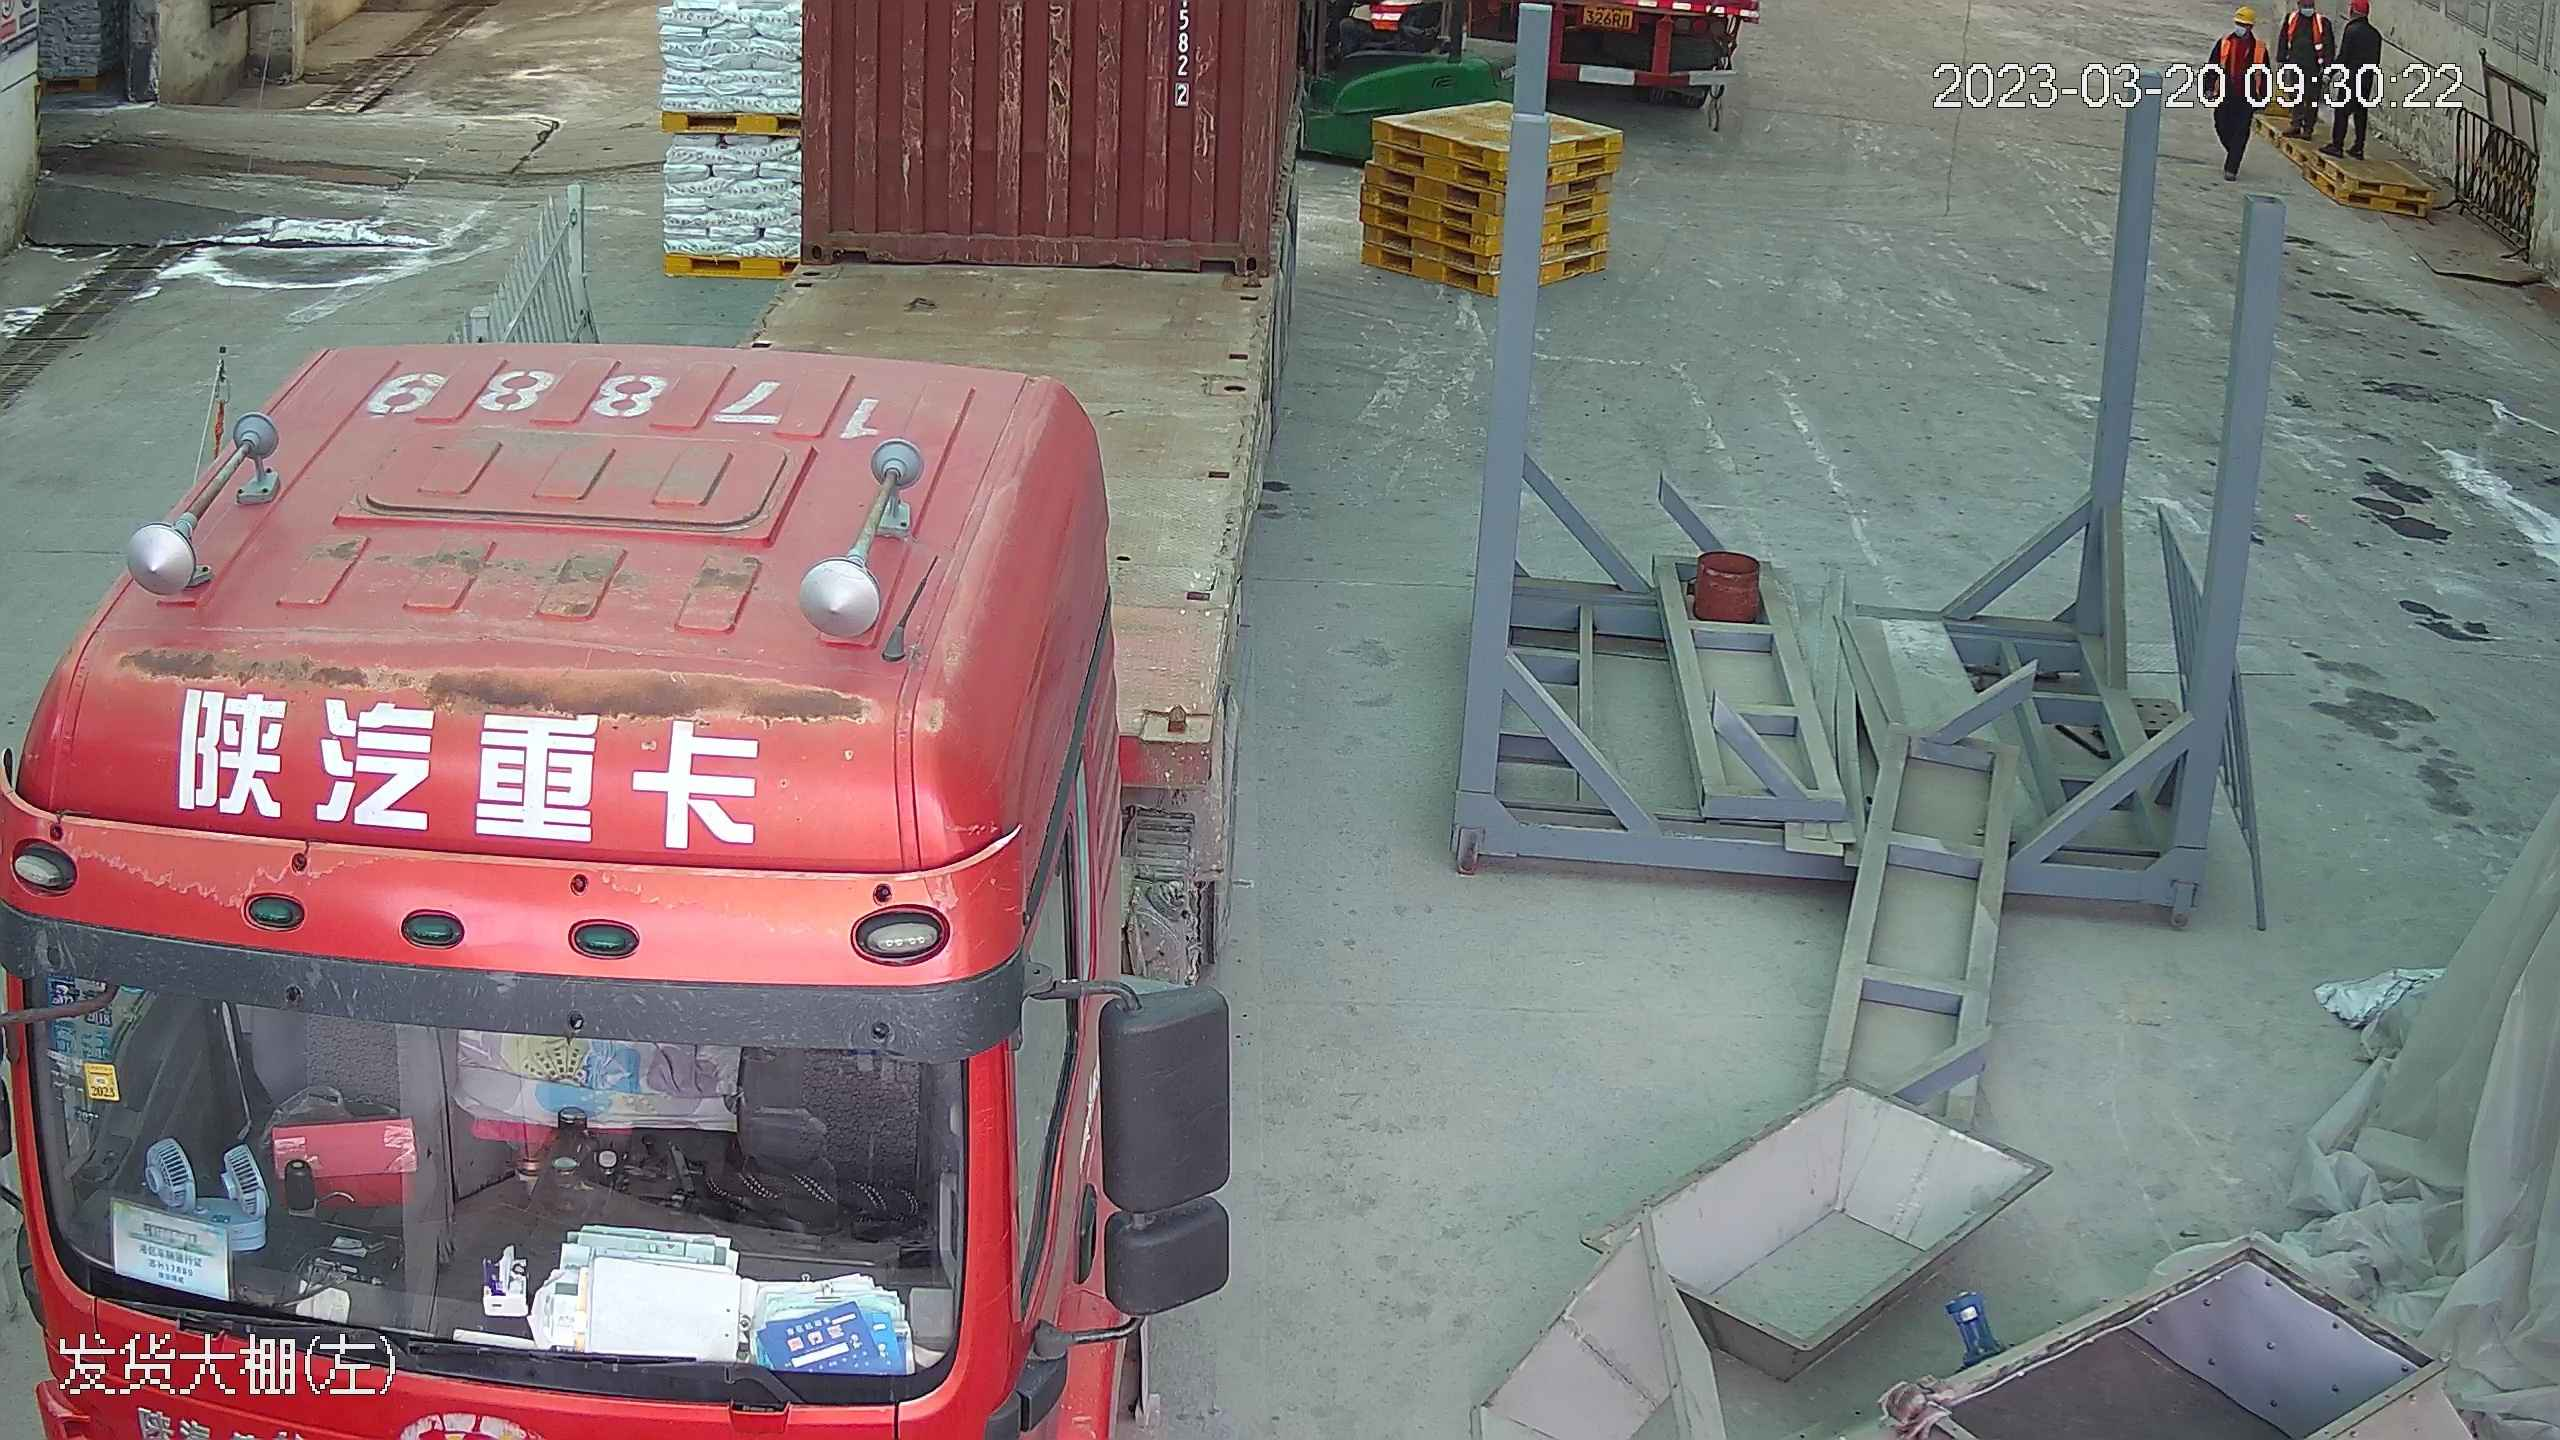head: (2216, 6, 2262, 59), (2338, 0, 2382, 47)
helmet: (2340, 0, 2381, 44), (2346, 0, 2374, 21), (2231, 3, 2257, 22)
people: (2201, 16, 2261, 182), (2332, 2, 2382, 169), (2280, 0, 2331, 149)
truck: (7, 0, 1296, 1440)
